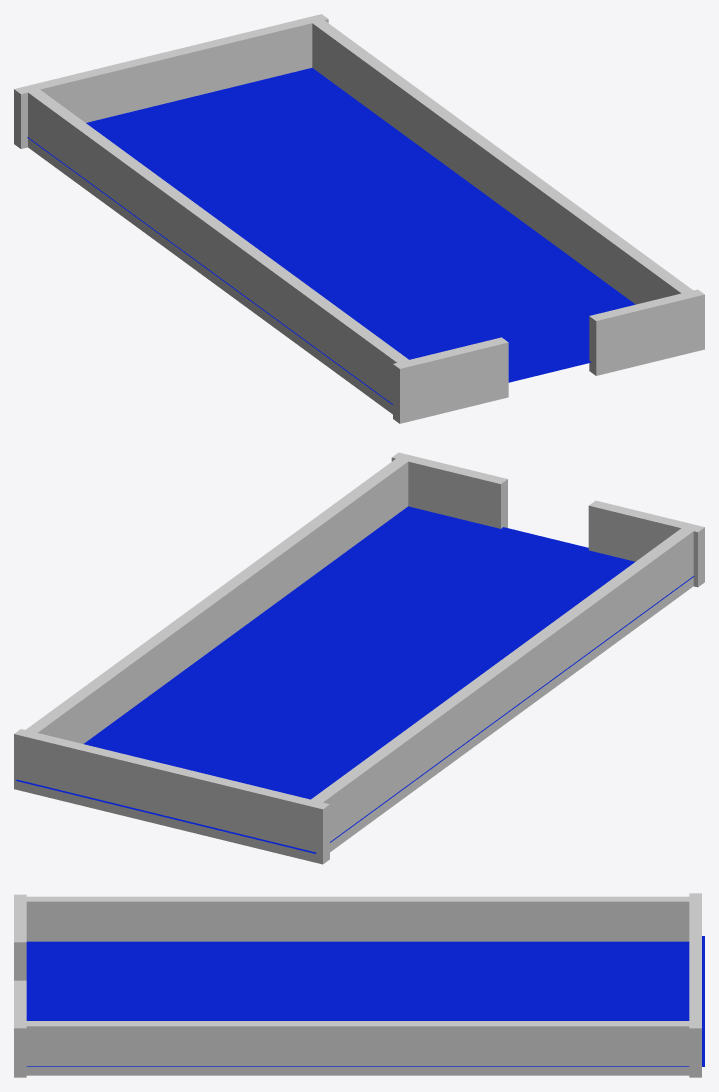
Rendered from MDL_E_LVL_Temple_02.fbx.
3 views of the same model, one above another, from view 1: azimuth 30°, elevation 25°; view 2: azimuth 150°, elevation 25°; view 3: azimuth 270°, elevation 25° (orthographic). The views are drawn at different scales.
Visible parts, largest first — view 1: Plane.017; view 2: Plane.017; view 3: Plane.017.
Part boxes in pixels (x1=…): Plane.017: x1=14, y1=14, x2=704, y2=423; Plane.017: x1=14, y1=452, x2=704, y2=864; Plane.017: x1=14, y1=893, x2=704, y2=1077.
Bounding box in the file's own units: 1594 × 272 × 3454.
